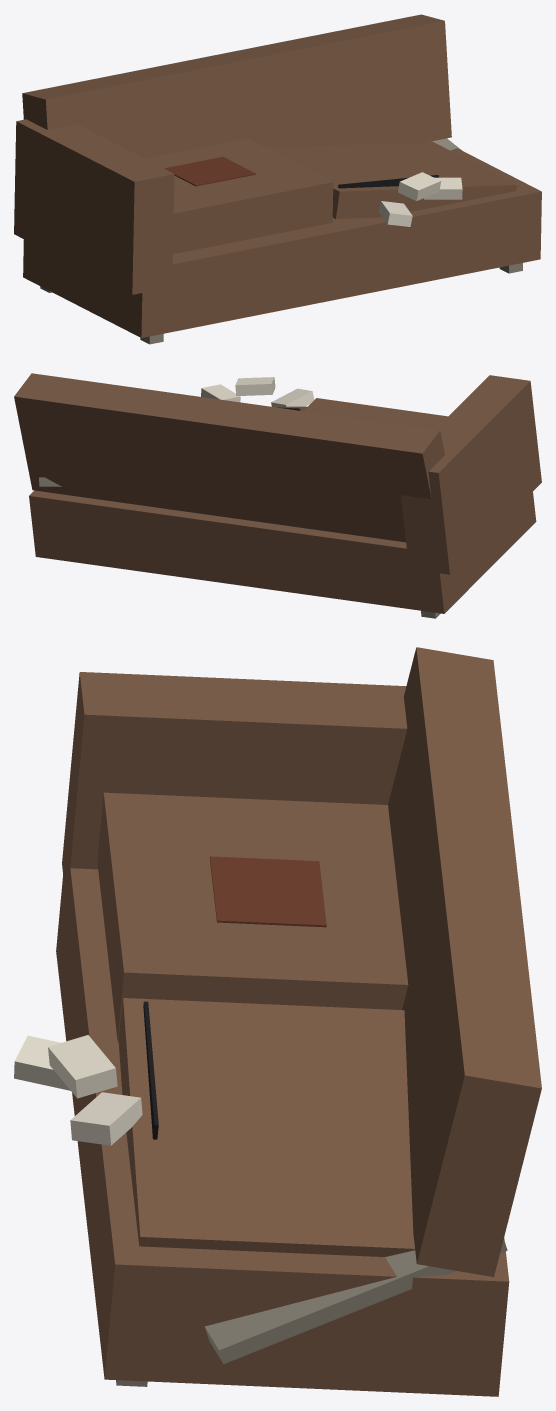
The model's file is GH_Sofa_Damaged_01.glb.
3 views of the same model, one above another, from view 1: azimuth 30°, elevation 25°; view 2: azimuth 150°, elevation 25°; view 3: azimuth 270°, elevation 25° (orthographic). The views are drawn at different scales.
Parts seen in each view (by area): view 1: GH_Sofa_Damaged_01; view 2: GH_Sofa_Damaged_01; view 3: GH_Sofa_Damaged_01.
Boxes of the visible parts, x1=… form: GH_Sofa_Damaged_01: x1=14, y1=14, x2=541, y2=344; GH_Sofa_Damaged_01: x1=14, y1=373, x2=541, y2=618; GH_Sofa_Damaged_01: x1=14, y1=647, x2=541, y2=1396.
Size of the model in its own units: 2.19 by 0.9819 by 1.2.
Materials: 1 (1 with a texture image).
